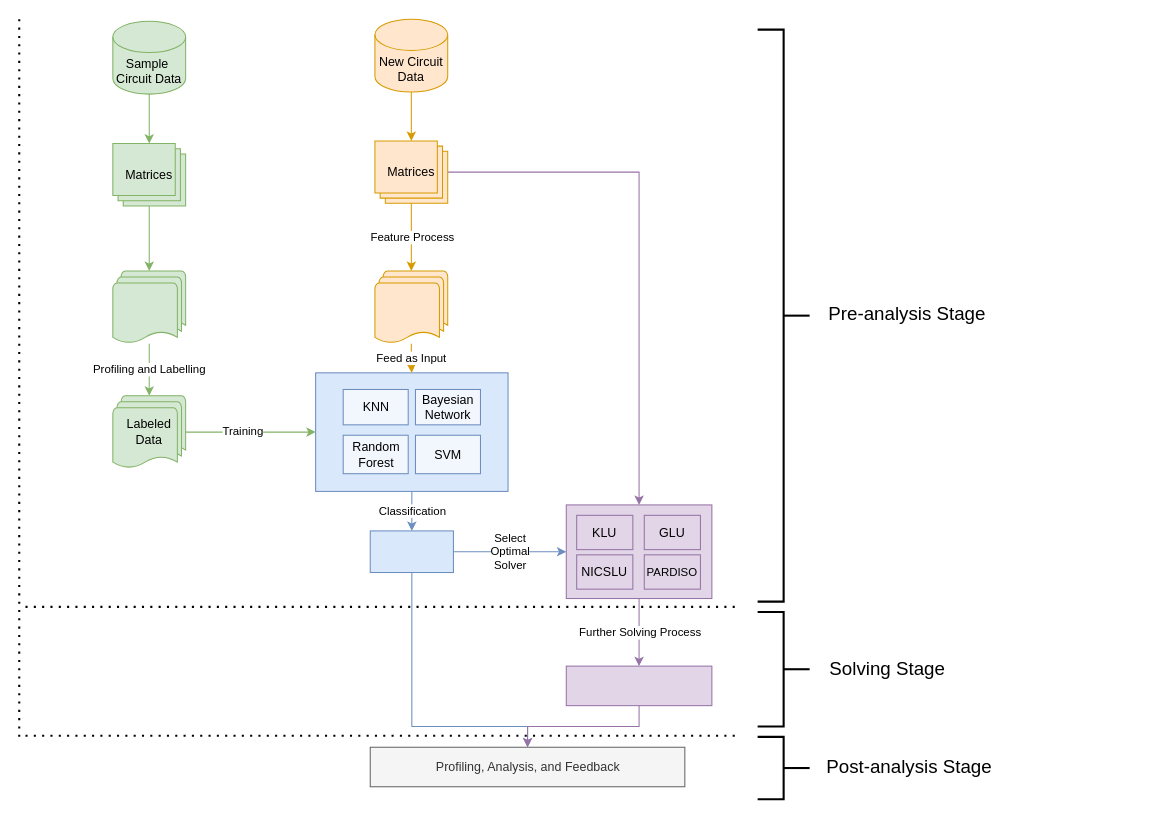
Image size: 1150x817. Some labels were removed from this diagram. Each missing label, with the box of its shape:
Extracted Features: (374, 270, 448, 344)
Manual Selected Features: (112, 270, 186, 344)
Prediction: (369, 530, 453, 573)
Solving Results: (565, 665, 712, 706)
